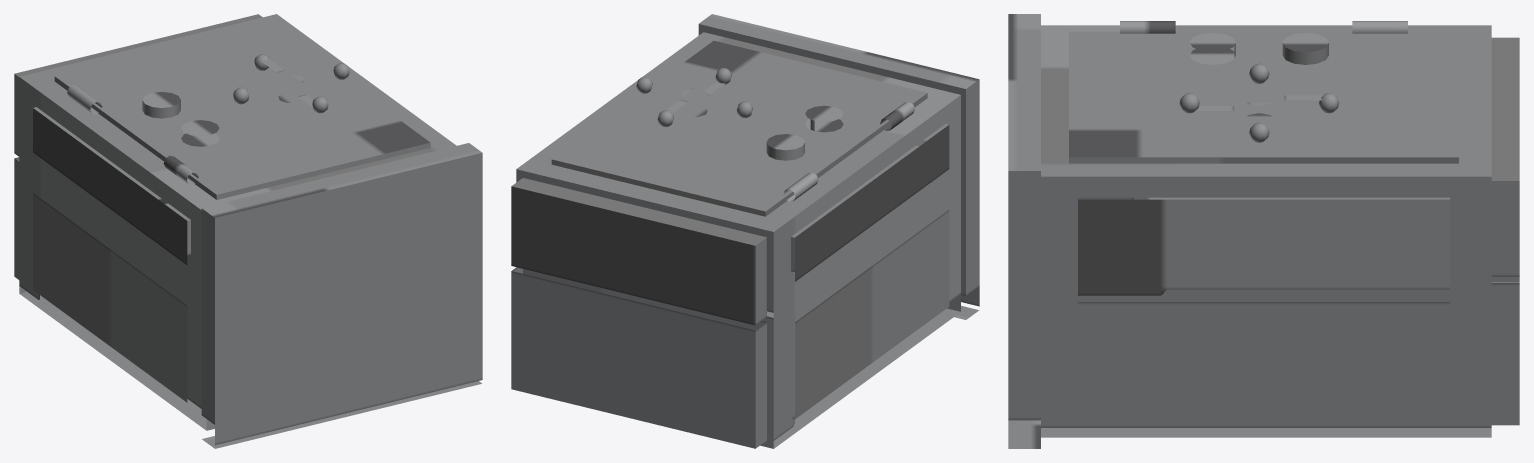
3 renders of one model, left to right at view 1: azimuth 30°, elevation 25°; view 2: azimuth 150°, elevation 25°; view 3: azimuth 270°, elevation 25°, orthographic. The views are drawn at different scales.
Size of the model in its own units: 0.818 by 0.722 by 1.1.
